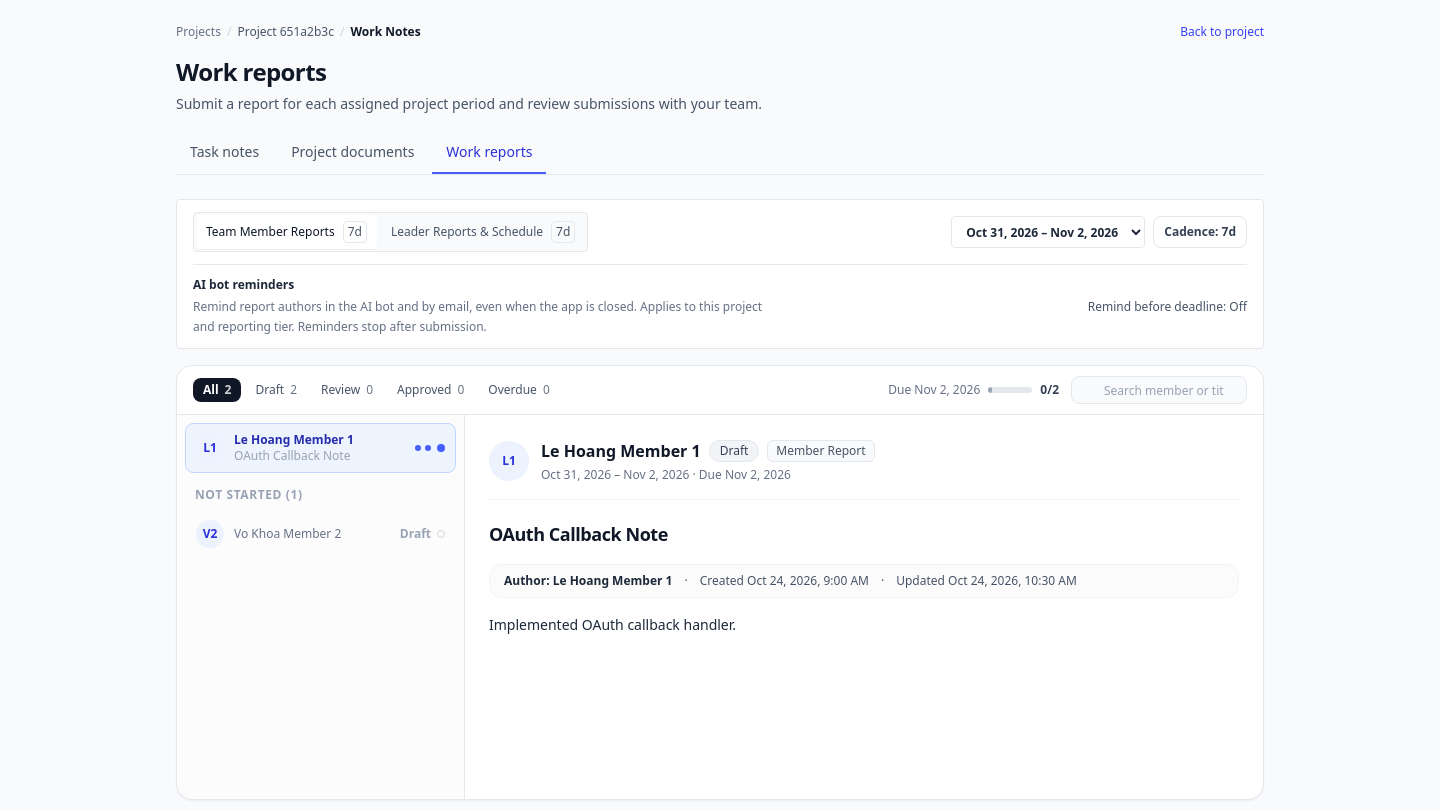
never shows the false no-report-obligation alert for a Manager viewing active in-period Draft member reports, separates Draft from Overdue, and switches members
The image size is (1440, 810).
Expected: the heading "Le Hoang Member 1" is shown, [541,439,701,463]
Expected: the text "Implemented OAuth callback handler." is shown, [489,615,736,634]
Click the button "V2 Vo Khoa Member 2 Draft".
click(320, 534)  # box [185,511,456,557]
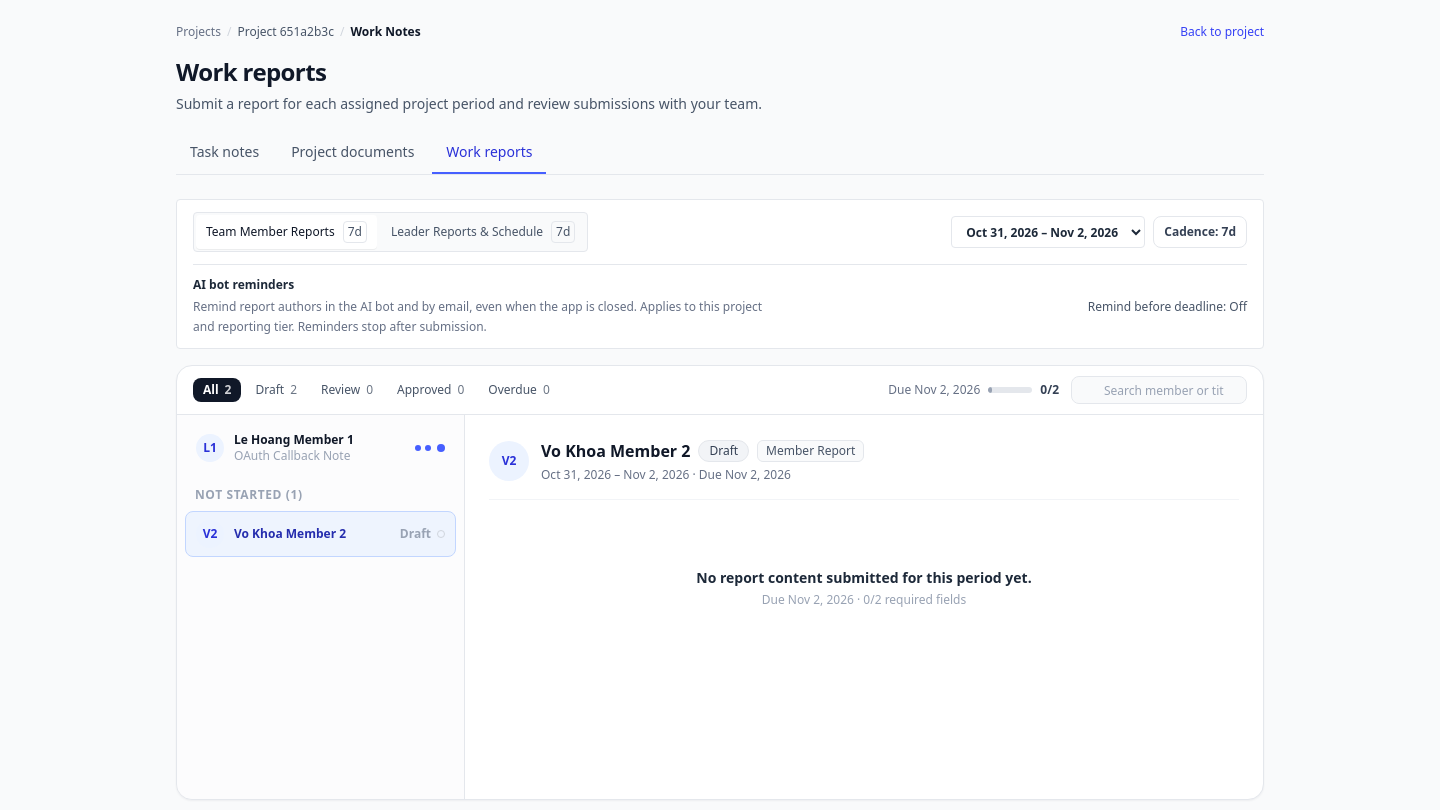
Expected: the heading "Vo Khoa Member 2" is shown, [541,439,690,463]
Expected: the text "No report content submitted for this period yet." is shown, [696,568,1032,587]
